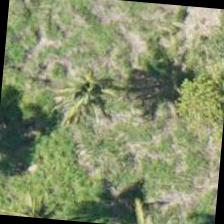Kelapa_Sawit: (36, 40, 134, 138), (96, 174, 192, 223), (0, 168, 81, 221)
